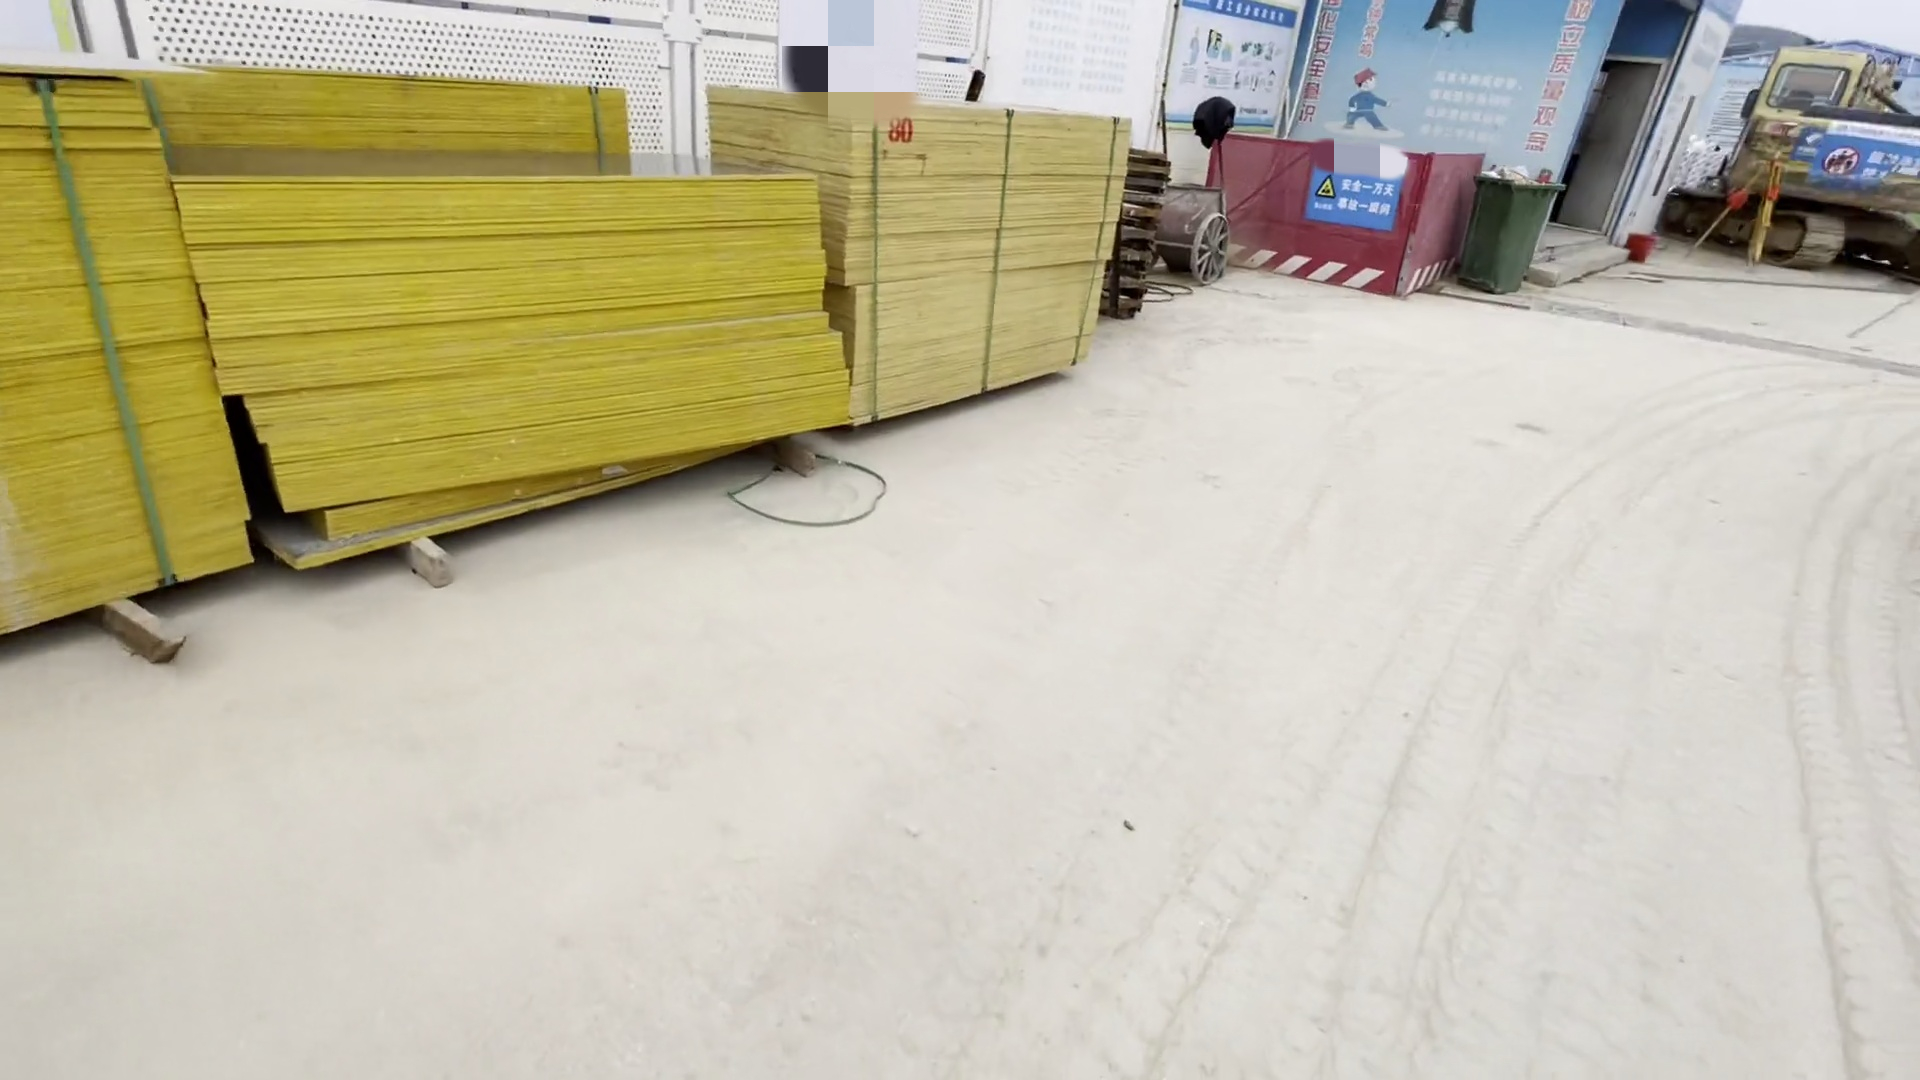board: (15, 51, 1127, 665)
handcart: (1147, 105, 1238, 295)
